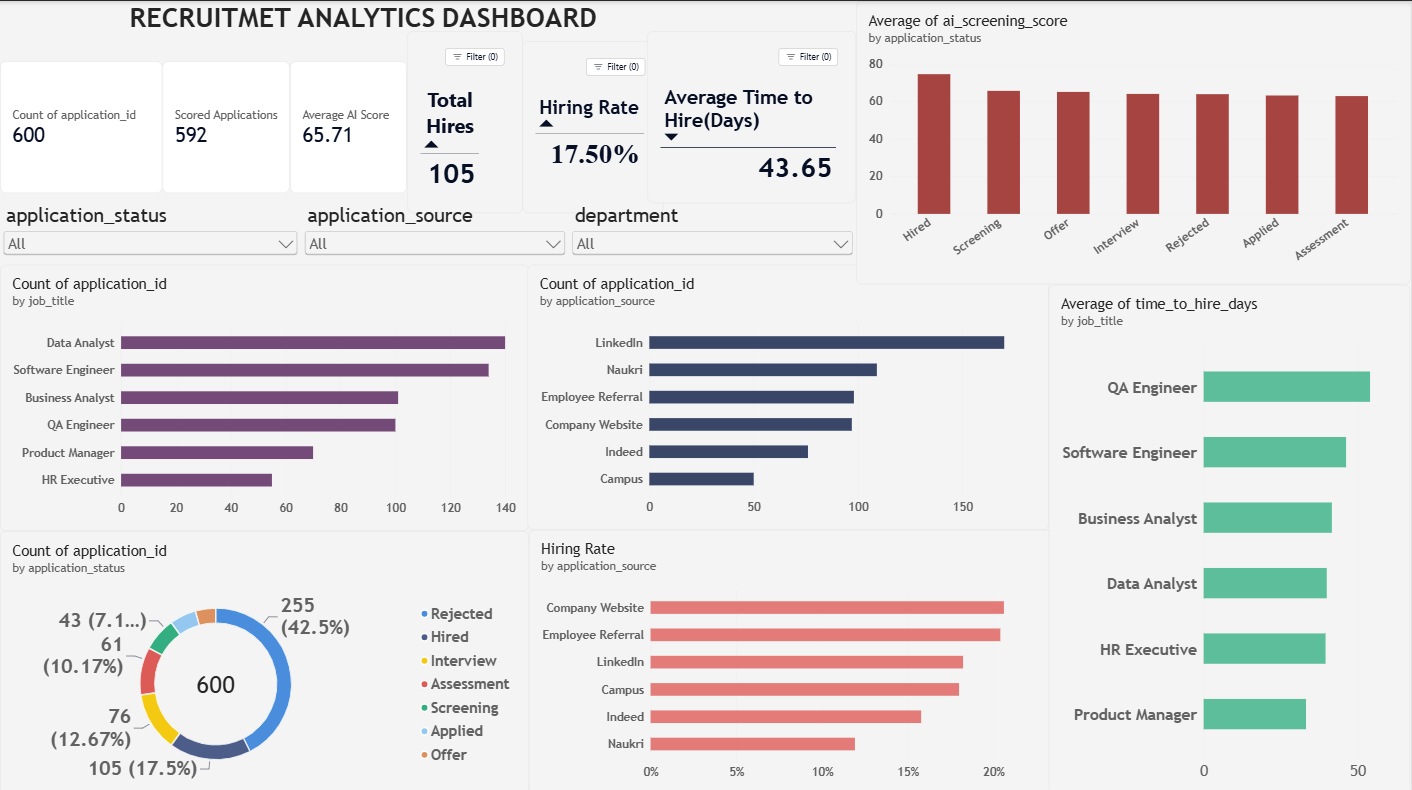

The dashboard page shown, as its layout file describes it:
{"tool":"powerbi","page":{"name":"Page 1","canvas":[1920,1080],"ordinal":0},"visuals":[{"type":"cardVisual","fields":{"Data":["CountNonNull(recruitment_applications_cleaned.application_id)"]},"box":[0,81.7,221.2,180.3],"z":0},{"type":"tableEx","fields":{"Values":["recruitment_applications_cleaned.Total Hires"]},"box":[554.6,40.8,156.5,248.4],"z":1000},{"type":"tableEx","fields":{"Values":["recruitment_applications_cleaned.Hiring Rate"]},"box":[711.2,54.4,192.3,234.8],"z":2000},{"type":"tableEx","fields":{"Values":["recruitment_applications_cleaned.Average Time to Hire(Days)"]},"box":[881.3,40.8,284.1,234.8],"z":3000},{"type":"clusteredBarChart","fields":{"Category":["recruitment_applications_cleaned.job_title"],"Y":["CountNonNull(recruitment_applications_cleaned.application_id)"]},"box":[0,359,719.7,362.4],"z":4000},{"type":"clusteredBarChart","fields":{"Category":["recruitment_applications_cleaned.application_source"],"Y":["CountNonNull(recruitment_applications_cleaned.application_id)"]},"box":[718,359,709.5,360.7],"z":5000},{"type":"clusteredBarChart","fields":{"Category":["recruitment_applications_cleaned.application_source"],"Y":["recruitment_applications_cleaned.Hiring Rate"]},"box":[719.7,719.7,711.2,360.7],"z":6000},{"type":"donutChart","fields":{"Category":["recruitment_applications_cleaned.application_status"],"Y":["CountNonNull(recruitment_applications_cleaned.application_id)"]},"box":[0,721.4,719.7,359],"z":7000},{"type":"clusteredColumnChart","fields":{"Category":["recruitment_applications_cleaned.application_status"],"Y":["Avg(recruitment_applications_cleaned.ai_screening_score)"]},"box":[1164.8,0,754.7,386],"z":8000},{"type":"clusteredBarChart","fields":{"Category":["recruitment_applications_cleaned.job_title"],"Y":["Avg(recruitment_applications_cleaned.time_to_hire_days)"]},"box":[1427.4,386.2,491.7,694.1],"z":9000},{"type":"slicer","fields":{"Values":["recruitment_applications_cleaned.department"]},"box":[774.1,275.6,391.3,125.9],"z":10000},{"type":"slicer","fields":{"Values":["recruitment_applications_cleaned.application_source"]},"box":[410,275.6,364.1,125.9],"z":11000},{"type":"slicer","fields":{"Values":["recruitment_applications_cleaned.application_status"]},"box":[0,275.6,410,125.9],"z":12000},{"type":"cardVisual","fields":{"Data":["recruitment_applications_cleaned.Average AI Score"]},"box":[394.7,81.7,159.9,180.3],"z":13000},{"type":"cardVisual","fields":{"Data":["recruitment_applications_cleaned.Scored Applications"]},"box":[221.2,81.7,173.5,180.3],"z":14000},{"type":"textbox","box":[0,0,988.5,81.7],"z":14001}]}

Visuals, with their boxes in screenshot pixels (x1, y1, x2, y2), scaled from the page's 1920x1080 canvas onto the 1412x790 screenshot:
cardVisual - CountNonNull(recruitment_applications_cleaned.application_id): (0,60,163,192)
tableEx - recruitment_applications_cleaned.Total Hires: (408,30,523,212)
tableEx - recruitment_applications_cleaned.Hiring Rate: (523,40,664,212)
tableEx - recruitment_applications_cleaned.Average Time to Hire(Days): (648,30,857,202)
clusteredBarChart - recruitment_applications_cleaned.job_title x CountNonNull(recruitment_applications_cleaned.application_id): (0,263,529,528)
clusteredBarChart - recruitment_applications_cleaned.application_source x CountNonNull(recruitment_applications_cleaned.application_id): (528,263,1050,526)
clusteredBarChart - recruitment_applications_cleaned.application_source x recruitment_applications_cleaned.Hiring Rate: (529,526,1052,789)
donutChart - recruitment_applications_cleaned.application_status x CountNonNull(recruitment_applications_cleaned.application_id): (0,528,529,789)
clusteredColumnChart - recruitment_applications_cleaned.application_status x Avg(recruitment_applications_cleaned.ai_screening_score): (857,0,1411,282)
clusteredBarChart - recruitment_applications_cleaned.job_title x Avg(recruitment_applications_cleaned.time_to_hire_days): (1050,282,1411,789)
slicer - recruitment_applications_cleaned.department: (569,202,857,294)
slicer - recruitment_applications_cleaned.application_source: (302,202,569,294)
slicer - recruitment_applications_cleaned.application_status: (0,202,302,294)
cardVisual - recruitment_applications_cleaned.Average AI Score: (290,60,408,192)
cardVisual - recruitment_applications_cleaned.Scored Applications: (163,60,290,192)
textbox: (0,0,727,60)
